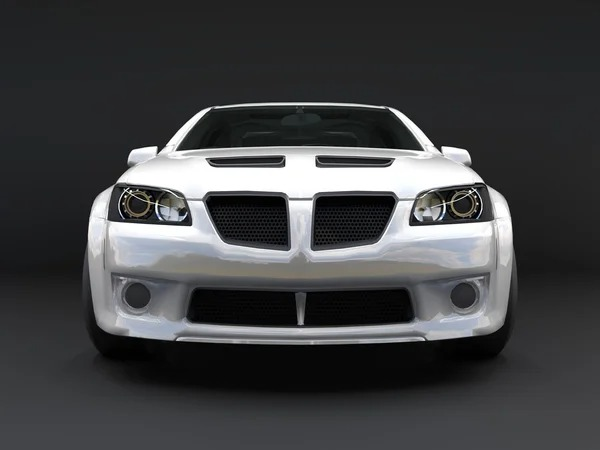car: (68, 103, 514, 364)
